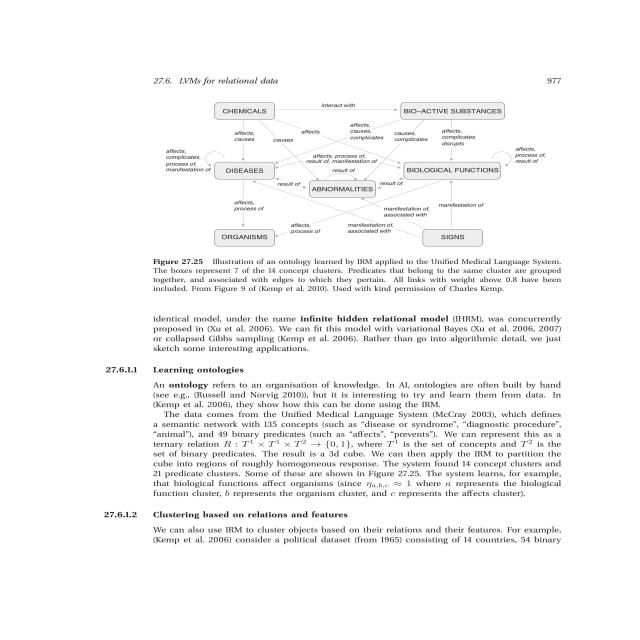diagram: (138, 70, 605, 298)
